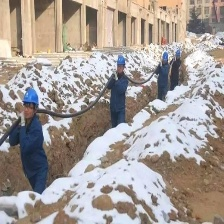helmet: (22, 87, 40, 108), (117, 55, 126, 67), (162, 52, 169, 63)
person: (14, 87, 50, 193), (108, 53, 130, 131), (157, 47, 170, 101)
